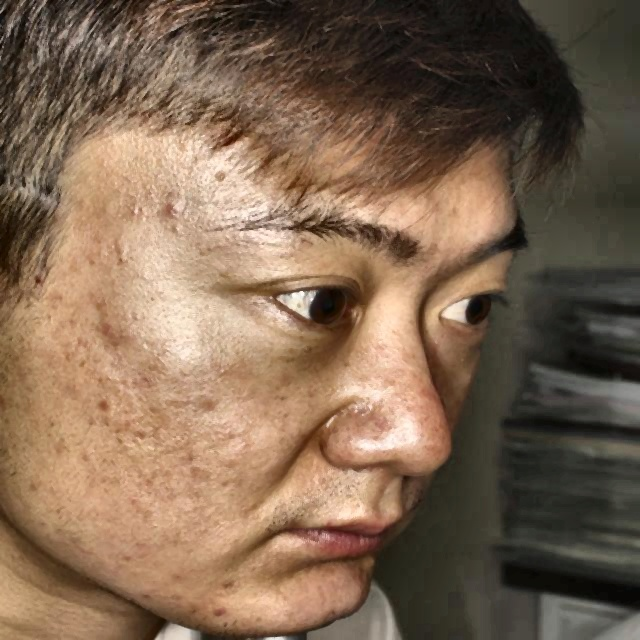comedone: (153, 200, 182, 221), (213, 601, 238, 623)
